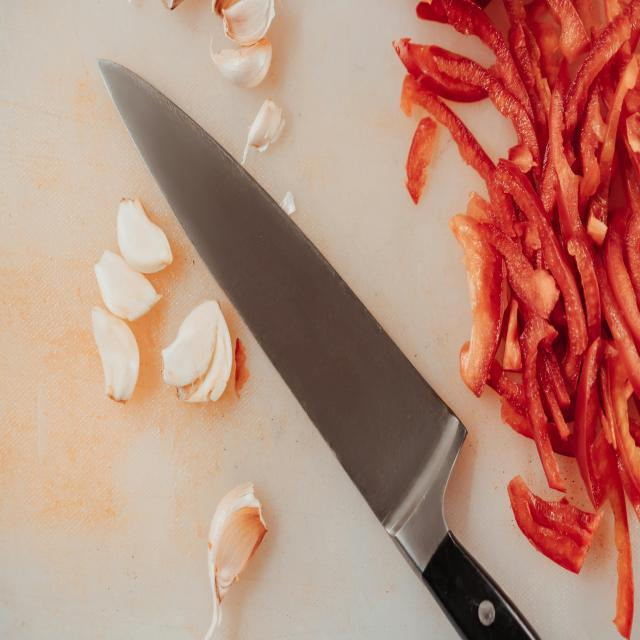knife: (98, 53, 543, 640)
